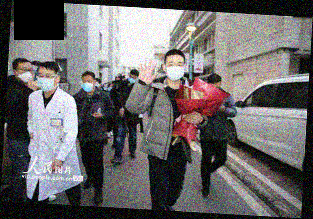with_mask: (164, 60, 185, 83), (36, 71, 56, 92), (17, 66, 34, 83), (80, 78, 95, 93), (127, 73, 137, 84)
